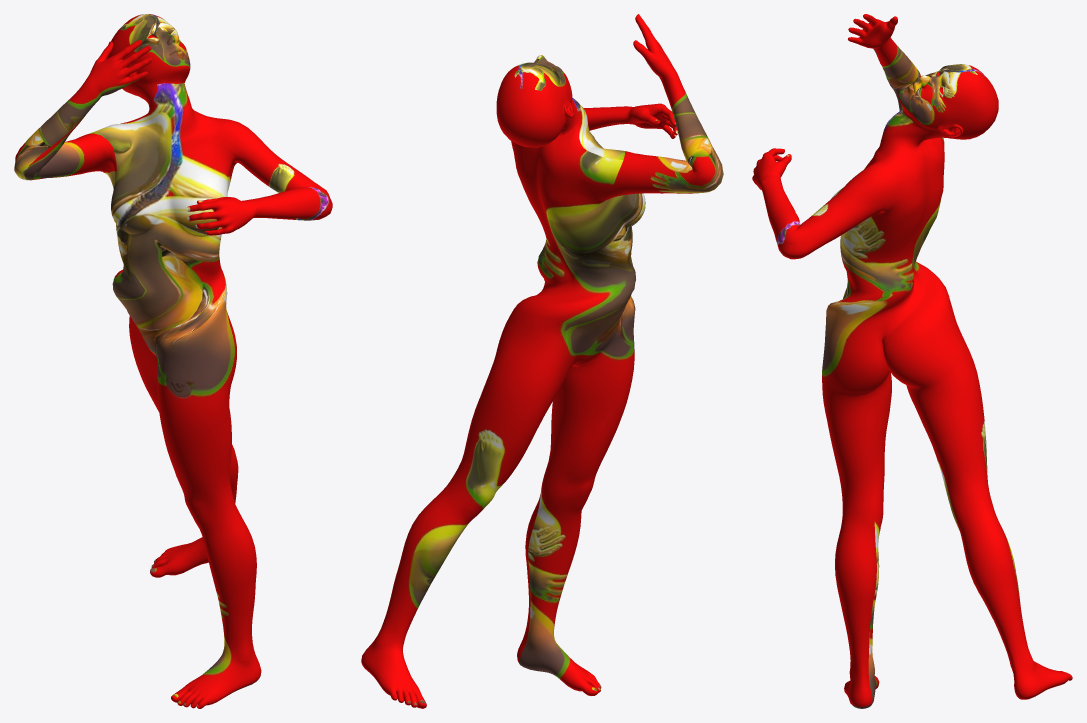
The model's file is antiheld.gltf.
The picture shows the model from 3 angles, left to right: view 1: azimuth 30°, elevation 25°; view 2: azimuth 150°, elevation 25°; view 3: azimuth 270°, elevation 25°; orthographic projection. The views are drawn at different scales.
Visible parts, largest first — view 1: polySurface1; view 2: polySurface1; view 3: polySurface1.
Part boxes in pixels (x1=…): polySurface1: x1=14, y1=14, x2=332, y2=708; polySurface1: x1=361, y1=14, x2=723, y2=708; polySurface1: x1=752, y1=14, x2=1072, y2=708.
Size of the model in its own units: 0.1336 by 0.2964 by 0.1323.
Materials: 1 (1 with a texture image).
